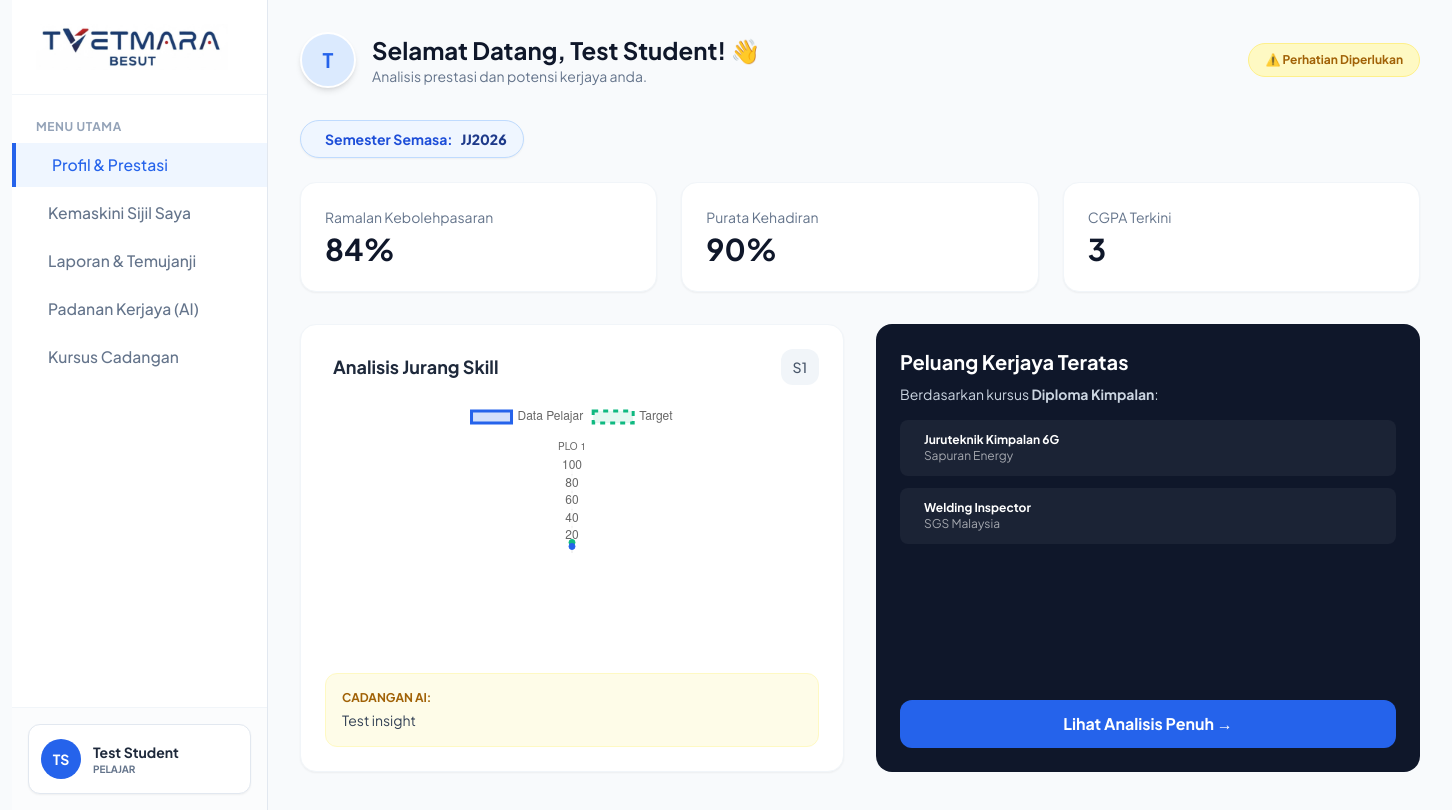
career tab › loads department recent searches on focus and searches the selected keyword
expect the text "Test insight" is shown: met, box [342,711,416,729]
Click the button "Padanan Kerjaya (AI)" at (140, 309), box [12,287,267,331]
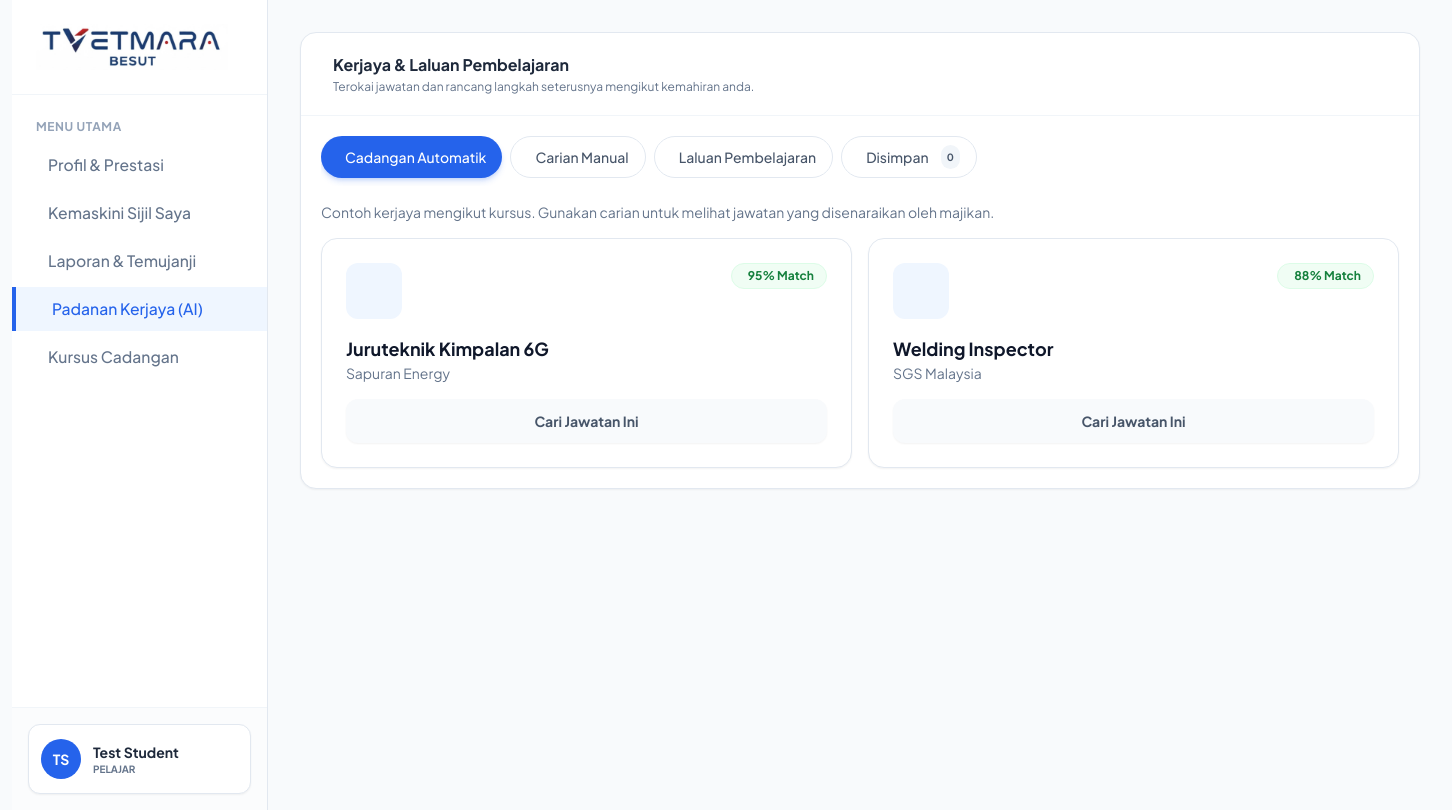
Click the button "Carian Manual" at (578, 157), box [510,136,646,178]
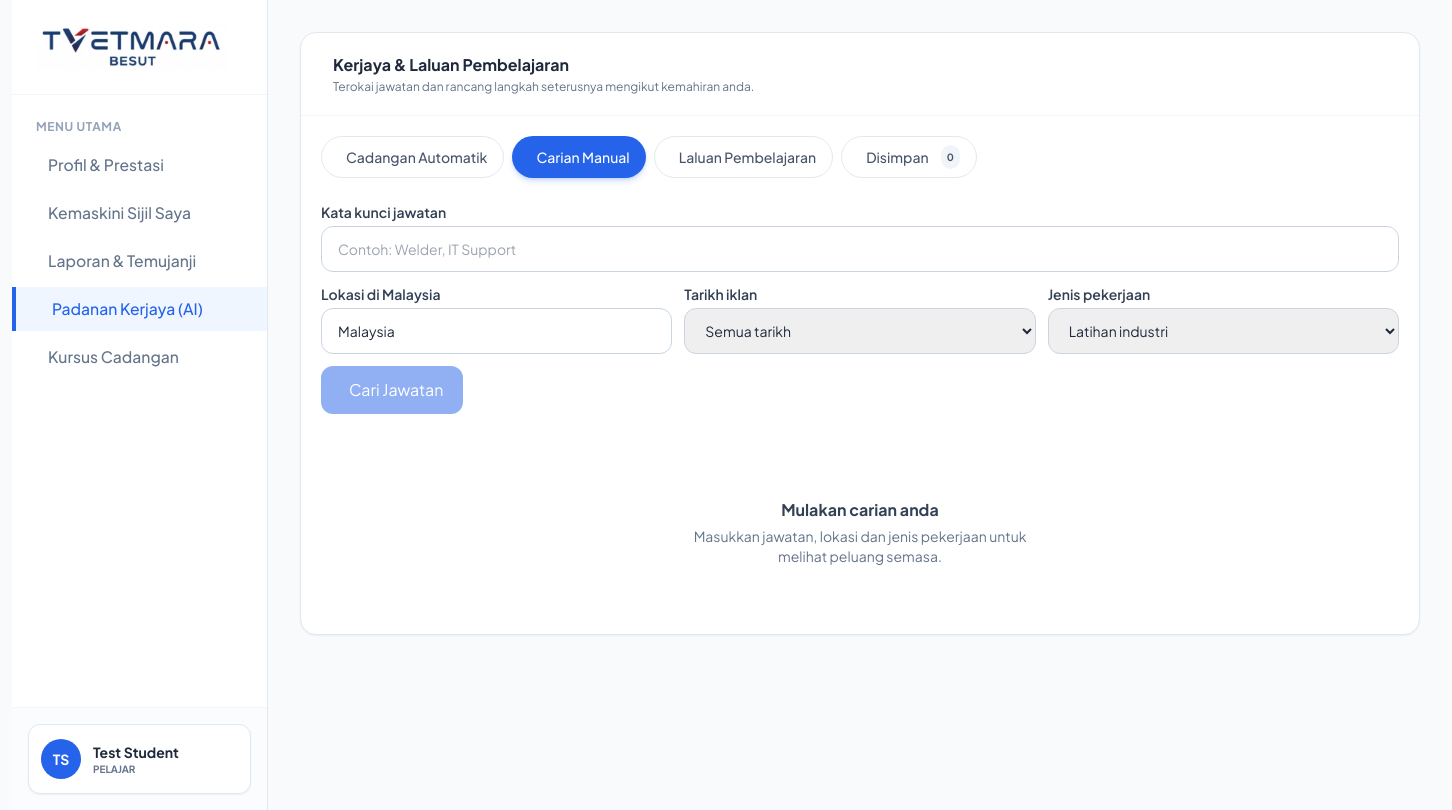
Focus the dropdown labelled "Kata kunci jawatan" at (860, 249), box [321,226,1399,272]
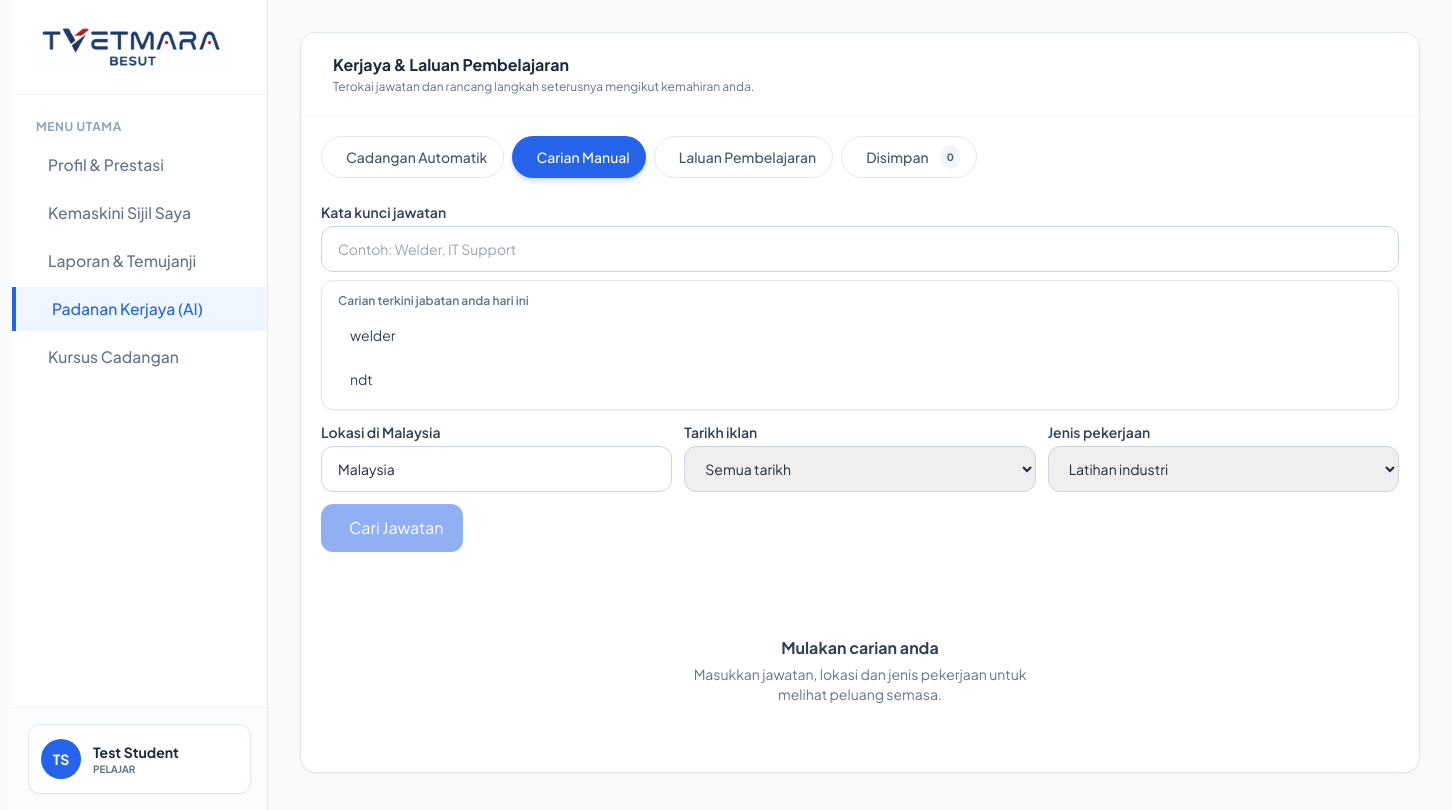
Click the option "welder" at (373, 335), box [330,313,1390,357]
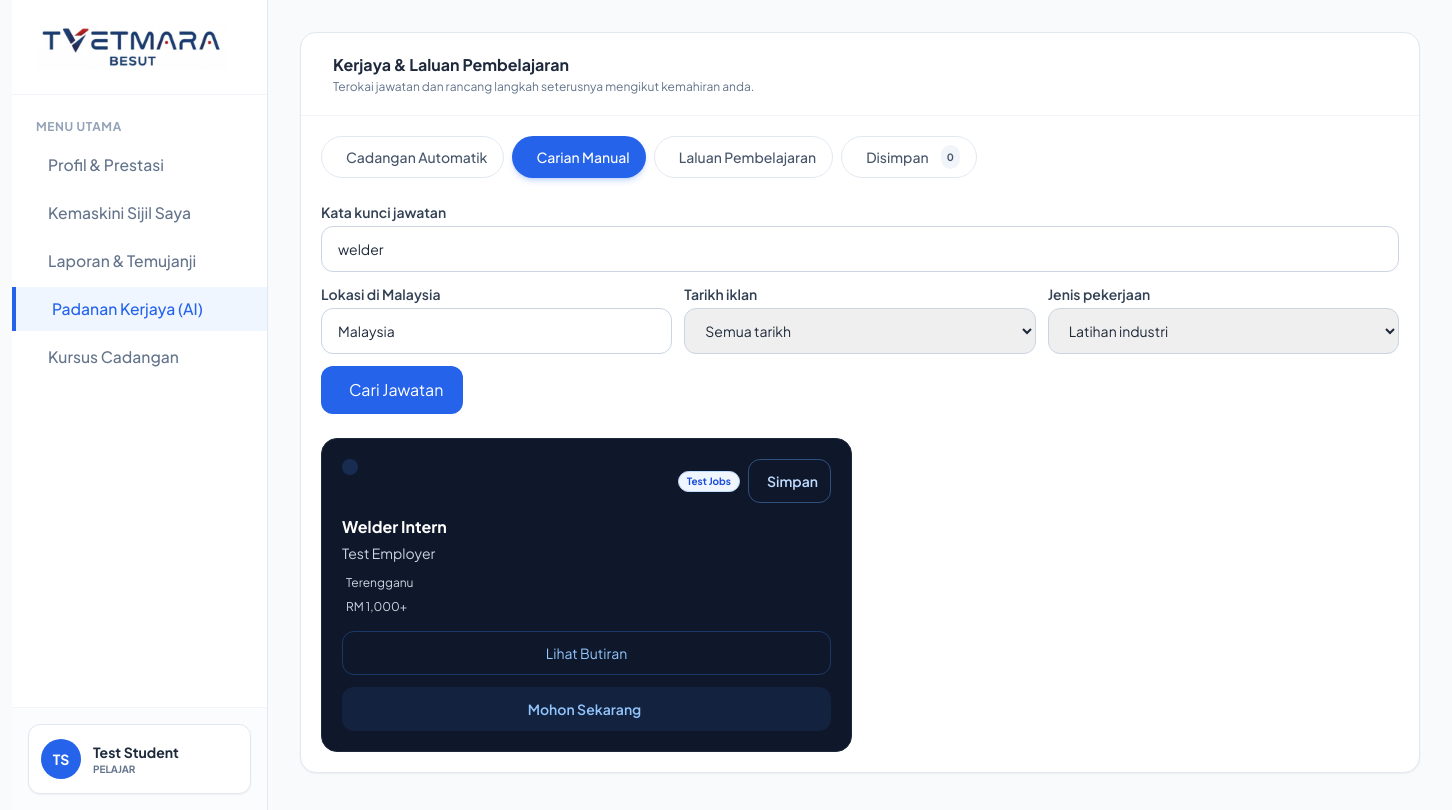
expect the link named "Mohon Sekarang untuk Welder Intern" is shown: met, box [342,687,831,731]
expect the dropdown labelled "Kata kunci jawatan" holds "welder": met, box [321,226,1399,272]
expect the list is gone: met
